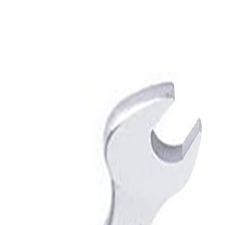wrench: (85, 65, 204, 225)
